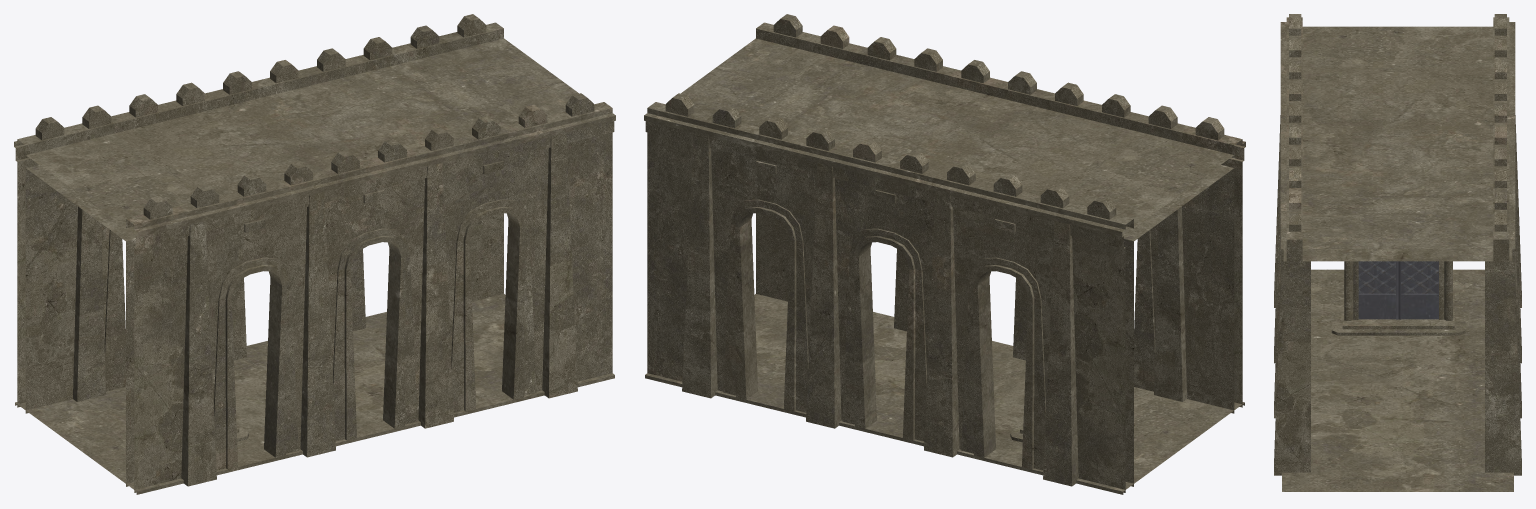
Rendered from rampart_wall_arcade.gltf.
The picture shows the model from 3 angles, left to right: view 1: azimuth 30°, elevation 25°; view 2: azimuth 150°, elevation 25°; view 3: azimuth 270°, elevation 25°; orthographic projection. The views are drawn at different scales.
Visible parts, largest first — view 1: rampart_wall_arcade; view 2: rampart_wall_arcade; view 3: rampart_wall_arcade.
Boxes of the visible parts, box(x1,y1,x2,y2) form: rampart_wall_arcade: box(14, 14, 615, 494); rampart_wall_arcade: box(644, 14, 1245, 494); rampart_wall_arcade: box(1274, 14, 1521, 491).
Bounding box in the file's own units: 30 × 16.99 × 14.15.
Materials: 2 (2 with a texture image).
